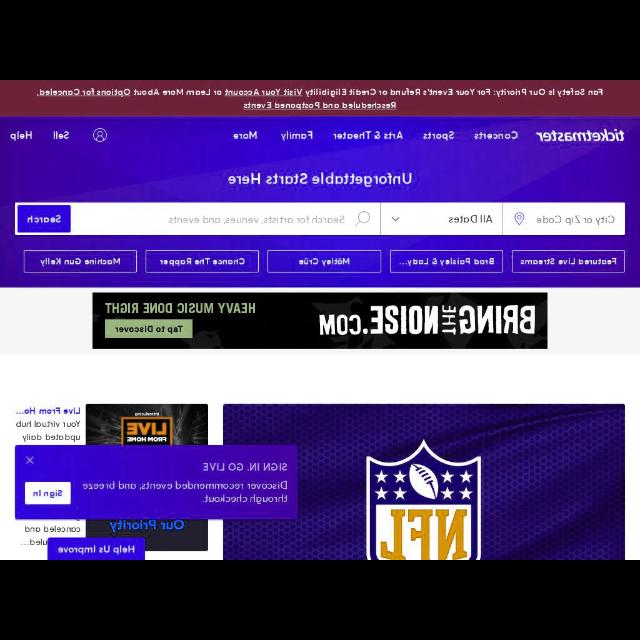icon: (353, 210, 373, 228), (92, 126, 108, 144), (512, 210, 526, 228), (24, 454, 36, 466), (390, 215, 400, 223)
iframe: (93, 292, 547, 348)
image: (222, 405, 624, 559), (86, 404, 208, 446), (536, 124, 626, 146)
input: (16, 201, 378, 235), (504, 203, 624, 235)
link: (241, 98, 397, 112), (38, 88, 132, 99), (224, 88, 304, 98)
spinner: (379, 203, 503, 235)
text: (28, 85, 604, 114), (80, 478, 288, 508), (224, 168, 413, 190), (168, 212, 346, 226), (15, 418, 79, 442), (398, 254, 496, 266), (534, 213, 616, 227), (40, 255, 122, 268), (158, 256, 246, 268), (332, 128, 406, 142), (518, 256, 618, 266), (201, 461, 287, 472), (58, 544, 134, 556), (474, 126, 518, 142), (448, 210, 492, 226), (12, 406, 80, 416), (296, 256, 350, 268), (420, 128, 458, 142), (280, 128, 316, 140), (27, 213, 62, 225), (32, 486, 62, 500), (10, 128, 34, 144), (232, 126, 256, 140), (51, 126, 70, 142)
textbutton: (21, 248, 139, 274), (388, 248, 504, 274), (266, 248, 382, 274), (145, 248, 261, 274), (510, 249, 626, 273), (48, 537, 144, 559), (18, 205, 70, 232), (24, 481, 72, 505)
toolbar: (1, 116, 639, 286)
